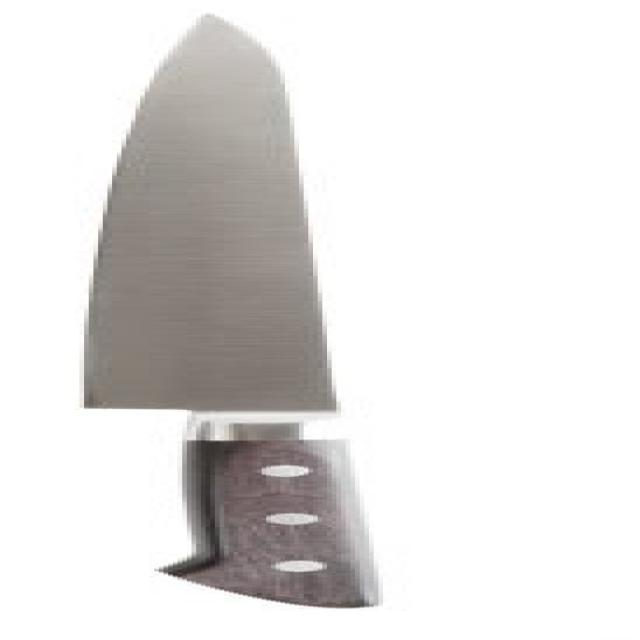knife: (71, 20, 449, 617)
